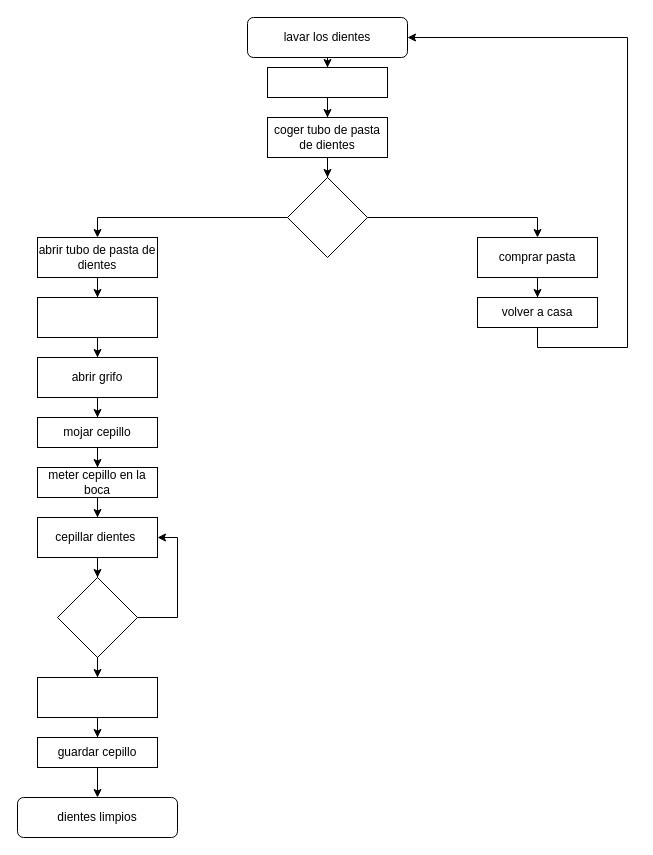
Some shapes in this 653 by 855 pixel diagram are drawn without their labels. The centre of each missing label's shape, as x and y in pixels:
coger cepillo: pixel 327 82
estoy limpio ?: pixel 97 617
hay pasta?: pixel 327 217
limpiar cepillo: pixel 97 697
poner pasta de dientes en el cepillo: pixel 97 317
